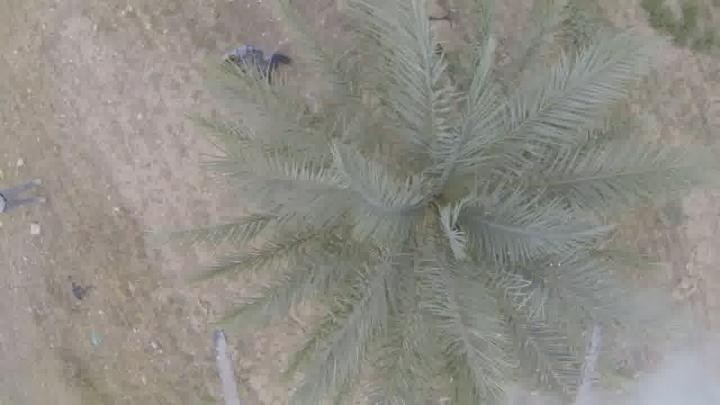Date-Palm-Crown: (297, 90, 591, 316)
